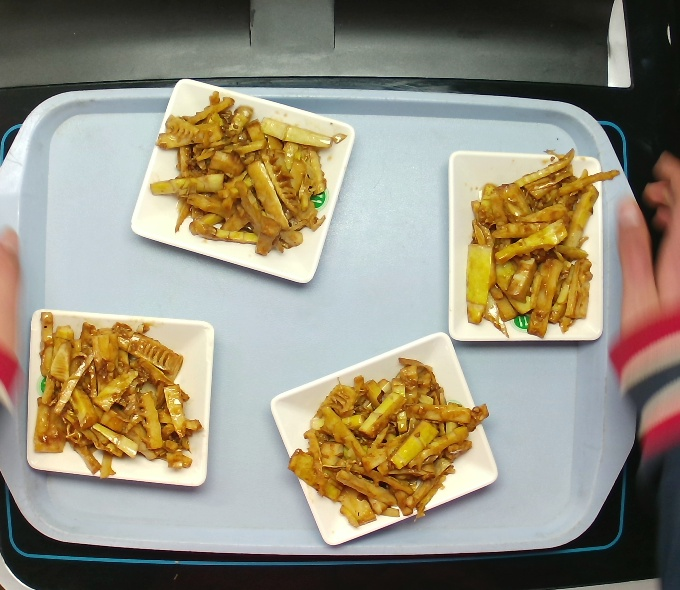wcq-QingChaoChunSun: (141, 85, 351, 266), (289, 354, 491, 527), (455, 141, 619, 348), (23, 311, 203, 486)
